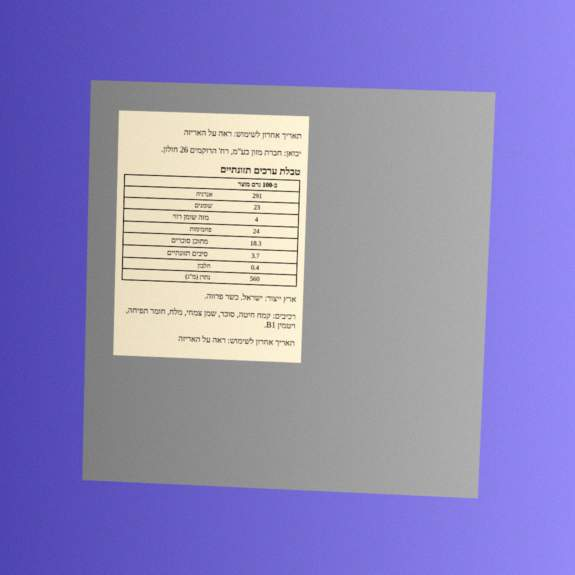carbs: (252, 227, 260, 236)
energy: (251, 191, 263, 200)
fat: (253, 203, 261, 212)
protein: (250, 263, 260, 272)
